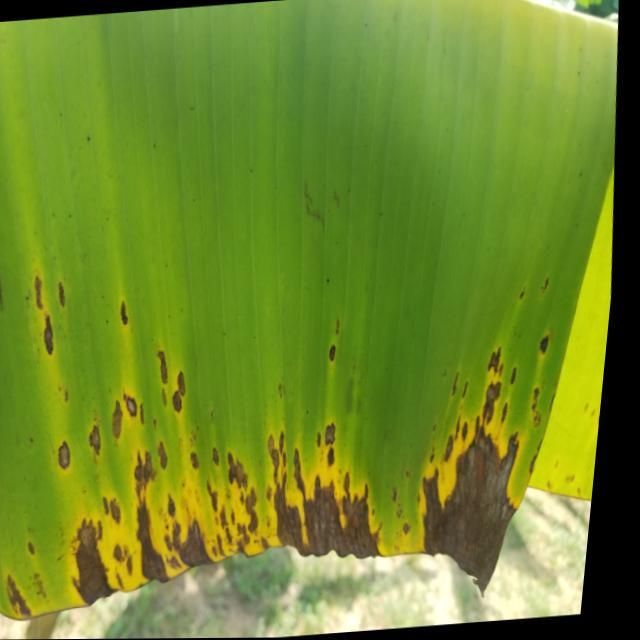Early_rust: (0, 183, 640, 603)
